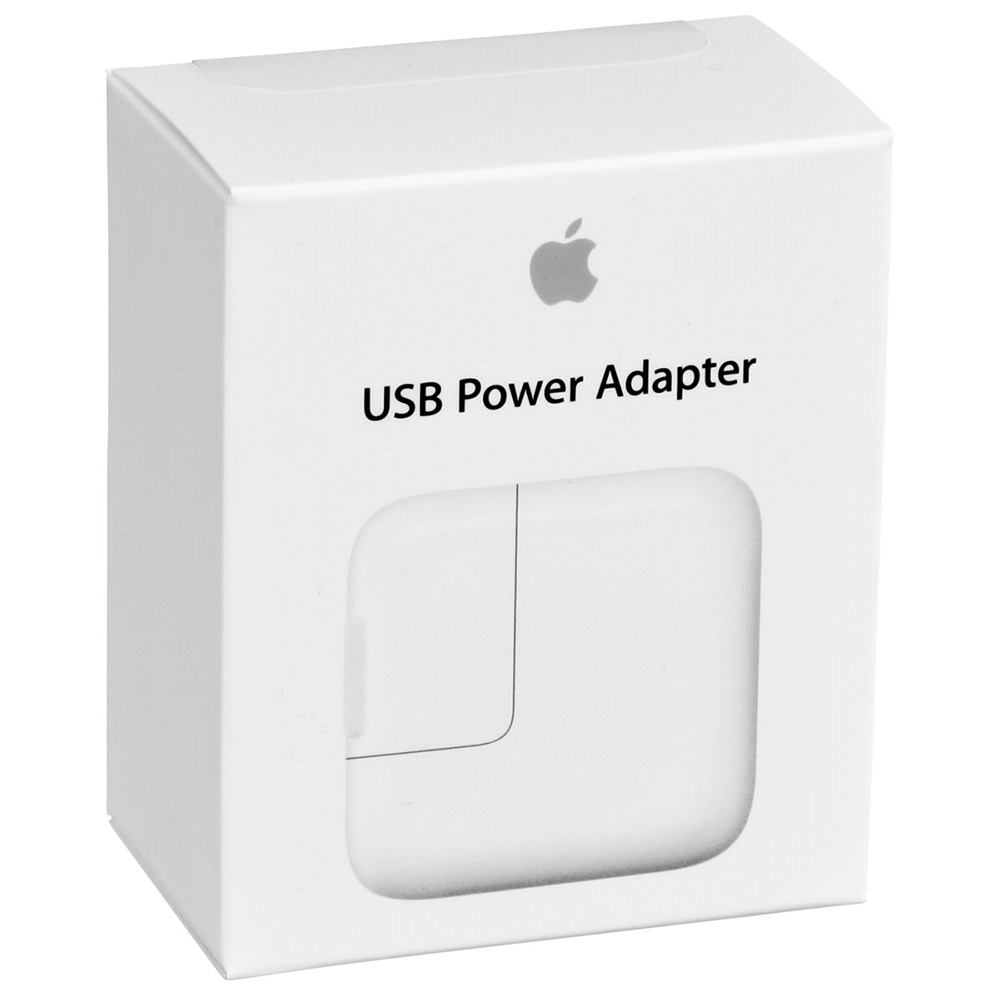Apple: (526, 208, 607, 313)
